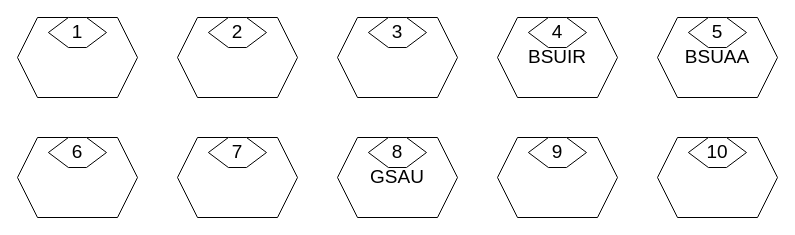
This 795x235 diagram has some shape labels left out. The shapes that lost their labels are listed below. From the top down, each one's box as (x1, y1, x2, y2) in pixels, then its label:
(16, 16, 138, 98): BSU
(176, 16, 298, 98): BNTU
(336, 16, 458, 98): BSMU
(16, 136, 138, 218): VSU
(176, 136, 298, 218): BSTU
(496, 136, 618, 218): GSMU
(656, 136, 778, 218): MSU
